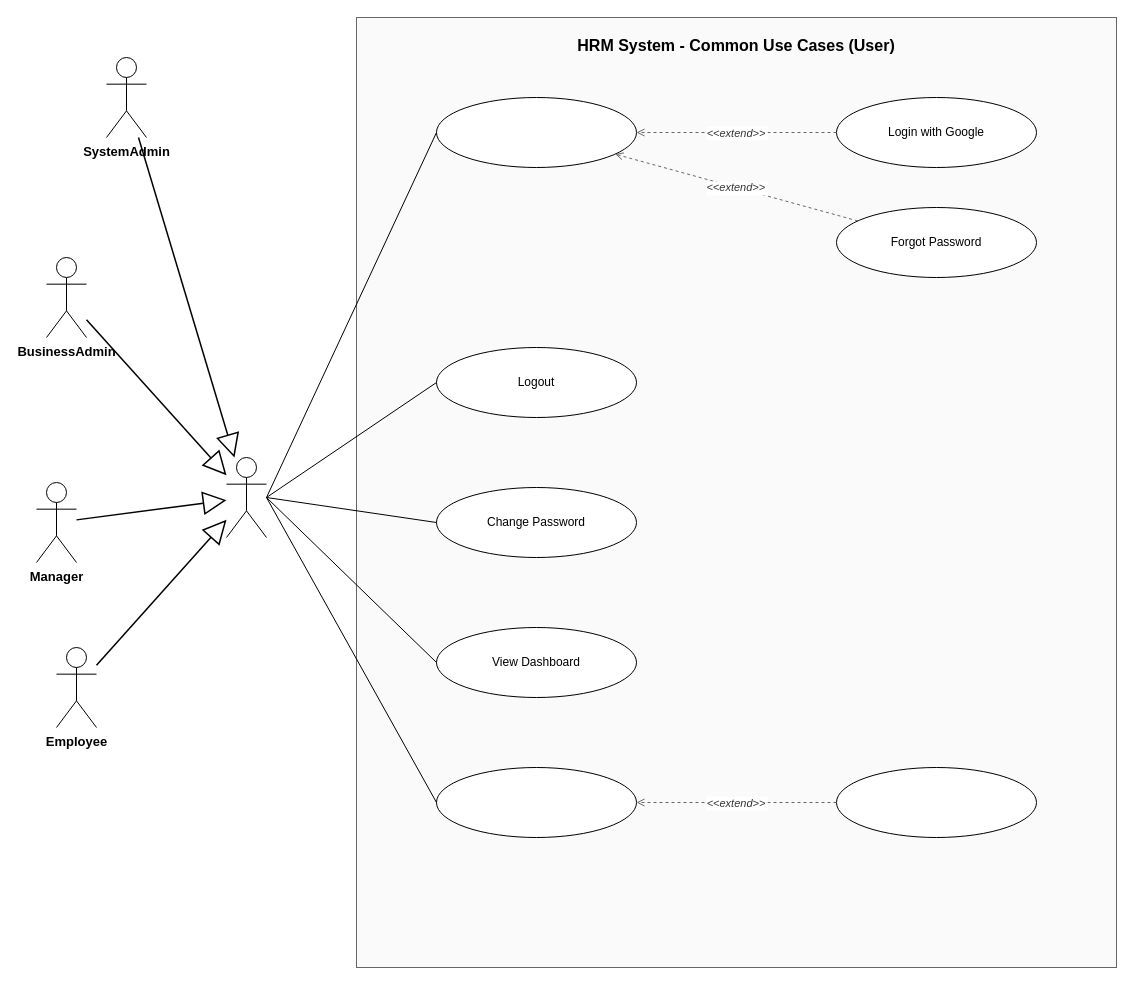
Some shapes in this 1134 by 985 pixel diagram are drawn without their labels. The centre of each missing label's shape, as x and y in pixels:
"Edit My Profile" belongs at (x=936, y=802).
"Login" belongs at (x=536, y=132).
"User" belongs at (x=246, y=497).
"View My Profile" belongs at (x=536, y=802).
